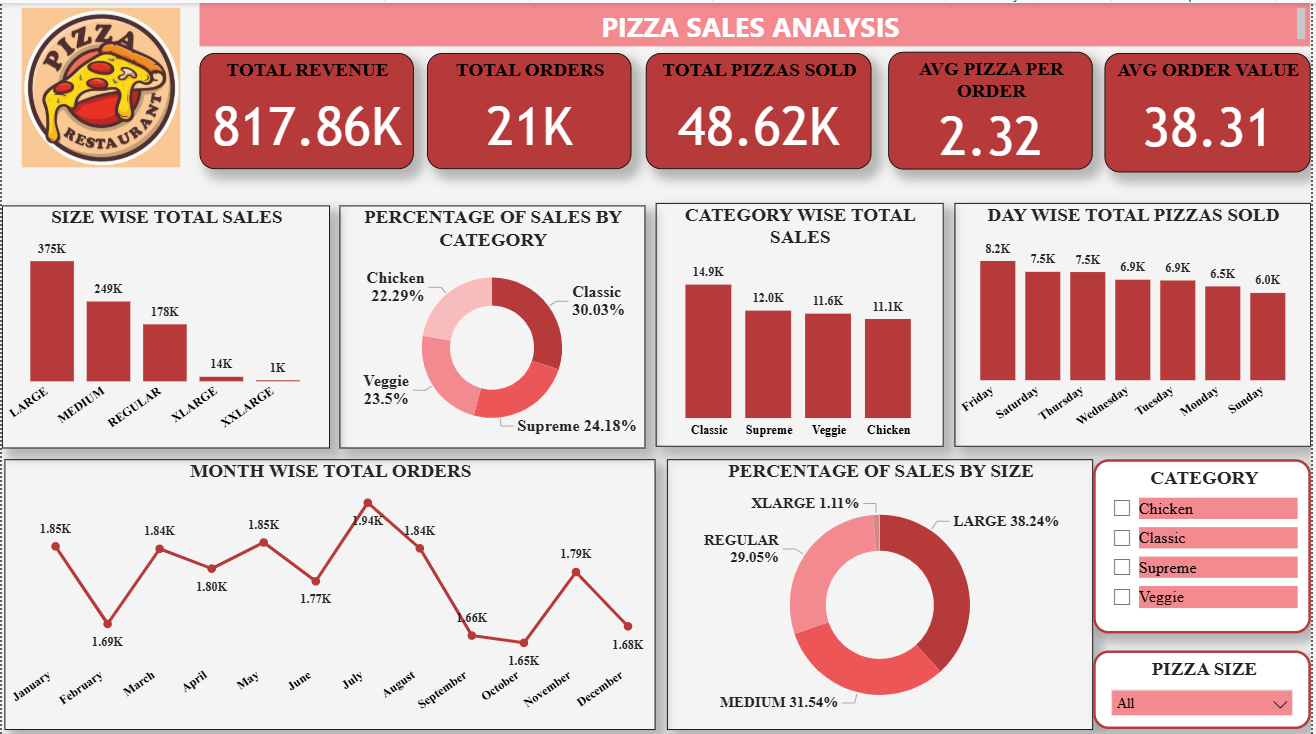

Layout of this report page (visuals, bound fields, positions):
{"tool":"powerbi","page":{"name":"Page 1","canvas":[1280,720],"ordinal":0},"visuals":[{"type":"textbox","box":[193.5,0,1086.8,42.5],"z":0},{"type":"card","title":"TOTAL REVENUE","fields":{"Values":["Sum(pizza_sales.total_price)"]},"box":[193.5,49.4,209.9,113.9],"z":1000},{"type":"card","title":"TOTAL PIZZAS  SOLD","fields":{"Values":["CountNonNull(pizza_sales.quantity)"]},"box":[629.8,49.4,220.9,113.9],"z":2000},{"type":"card","title":"TOTAL ORDERS","fields":{"Values":["pizza_sales.DISTINCT_COUNT"]},"box":[415.8,49.4,200.3,113.9],"z":3000},{"type":"card","title":"AVG PIZZA PER ORDER","fields":{"Values":["pizza_sales.AVG_PIZZA"]},"box":[867.2,48,200.3,115.3],"z":4000},{"type":"card","title":"AVG ORDER VALUE","fields":{"Values":["pizza_sales.AVG_ORDER_VALUE"]},"box":[1078.6,49.4,201.7,116.6],"z":5000},{"type":"image","box":[0,0,193.5,166],"z":6000},{"type":"columnChart","title":"SIZE WISE TOTAL SALES","fields":{"Category":["pizza_sales.pizza_size"],"Y":["Sum(pizza_sales.total_price)"]},"box":[0,197.6,321.1,237.4],"z":7000},{"type":"donutChart","title":"PERCENTAGE OF SALES BY CATEGORY","fields":{"Category":["pizza_sales.pizza_category"],"Y":["Sum(pizza_sales.quantity)"]},"box":[330.7,197.6,299.1,237.4],"z":8000},{"type":"donutChart","title":"PERCENTAGE OF SALES BY SIZE","fields":{"Y":["Sum(pizza_sales.quantity)"],"Category":["pizza_sales.pizza_size"]},"box":[650.4,446,417.2,264.8],"z":9000},{"type":"lineChart","title":"MONTH WISE TOTAL ORDERS","fields":{"Y":["pizza_sales.DISTINCT_COUNT"],"Category":["pizza_sales.order_date.Variation.Date Hierarchy.Year","pizza_sales.order_date.Variation.Date Hierarchy.Quarter","pizza_sales.order_date.Variation.Date Hierarchy.Month","pizza_sales.order_date.Variation.Date Hierarchy.Day"]},"box":[2.7,446,636.7,264.8],"z":10000},{"type":"columnChart","title":"CATEGORY WISE TOTAL SALES","fields":{"Category":["pizza_sales.pizza_category"],"Y":["Sum(pizza_sales.quantity)"]},"box":[639.5,196.2,281.3,238.8],"z":11000},{"type":"slicer","title":"PIZZA SIZE","fields":{"Values":["pizza_sales.pizza_size"]},"box":[1067.6,634,212.7,76.8],"z":12000},{"type":"slicer","title":"CATEGORY","fields":{"Values":["pizza_sales.pizza_category"]},"box":[1067.6,446,212.7,170.2],"z":13000},{"type":"columnChart","title":"DAY WISE TOTAL PIZZAS SOLD","fields":{"Category":["pizza_sales.Day Name"],"Y":["Sum(pizza_sales.quantity)"]},"box":[931.7,196.2,348.5,238.8],"z":15001}]}

Visuals, with their boxes in screenshot pixels (x1, y1, x2, y2), scaled from the page's 1280x720 canvas onto the 1316x734 screenshot:
textbox: (199, 0, 1315, 43)
"TOTAL REVENUE" card: (199, 50, 415, 166)
"TOTAL PIZZAS  SOLD" card: (648, 50, 875, 166)
"TOTAL ORDERS" card: (427, 50, 633, 166)
"AVG PIZZA PER ORDER" card: (892, 49, 1098, 166)
"AVG ORDER VALUE" card: (1109, 50, 1315, 169)
image: (0, 0, 199, 169)
"SIZE WISE TOTAL SALES" columnChart: (0, 201, 330, 443)
"PERCENTAGE OF SALES BY CATEGORY" donutChart: (340, 201, 648, 443)
"PERCENTAGE OF SALES BY SIZE" donutChart: (669, 455, 1098, 725)
"MONTH WISE TOTAL ORDERS" lineChart: (3, 455, 657, 725)
"CATEGORY WISE TOTAL SALES" columnChart: (657, 200, 947, 443)
"PIZZA SIZE" slicer: (1098, 646, 1315, 725)
"CATEGORY" slicer: (1098, 455, 1315, 628)
"DAY WISE TOTAL PIZZAS SOLD" columnChart: (958, 200, 1315, 443)
